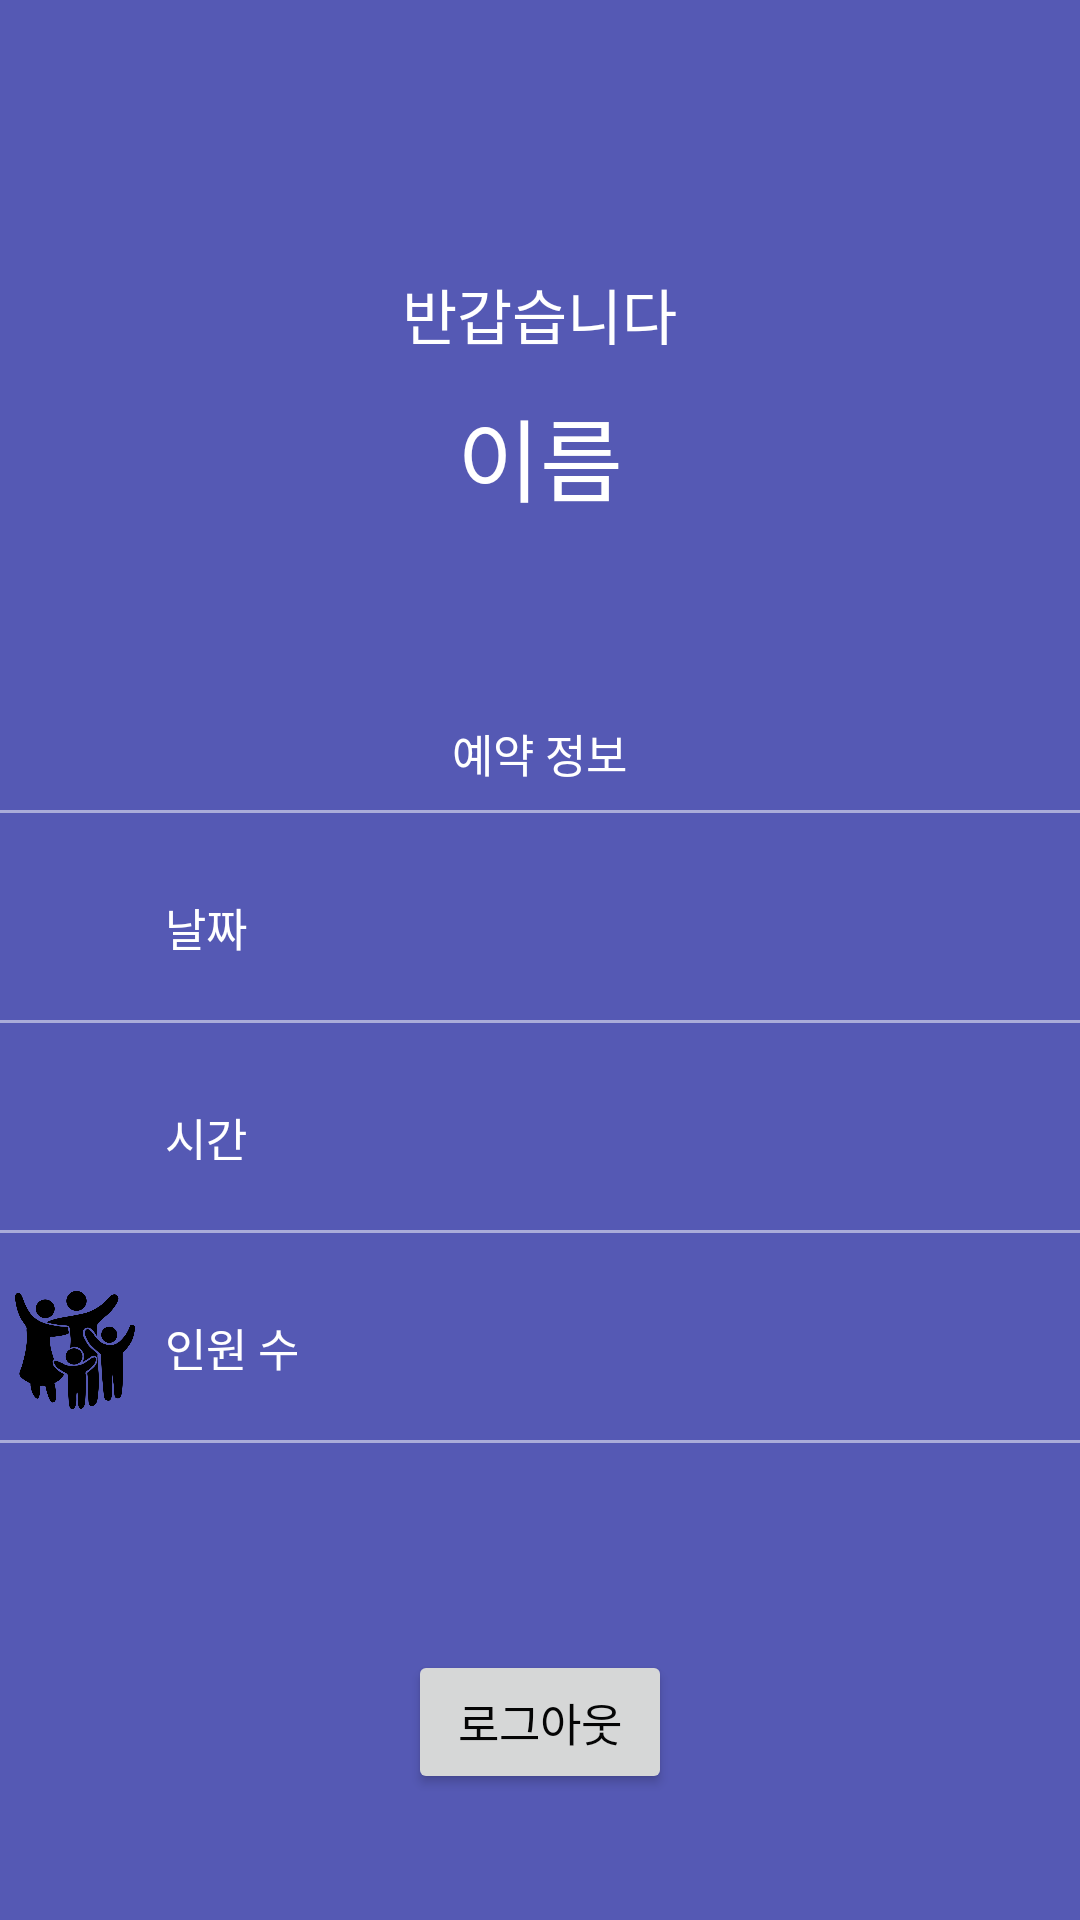

Icon click points for this 1080w x 1920h phone screenshot, format [x,y]:
people: [75,1350]
